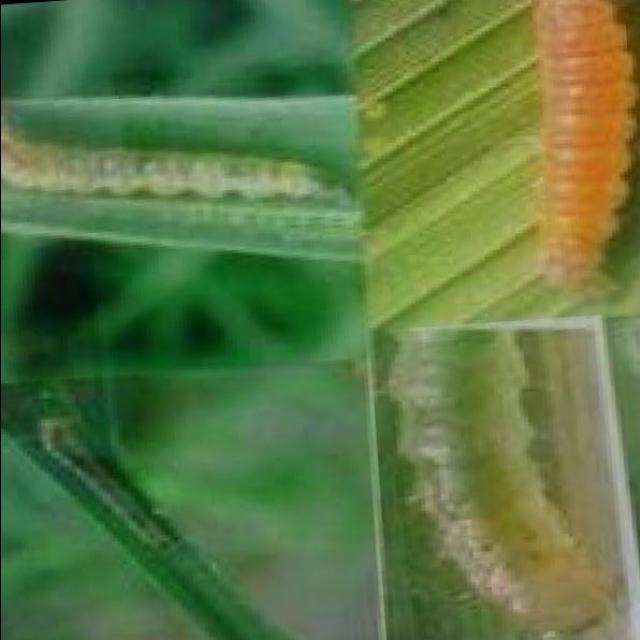leaf folder: (383, 321, 640, 637), (531, 0, 634, 288), (0, 110, 323, 198), (17, 419, 187, 555)
